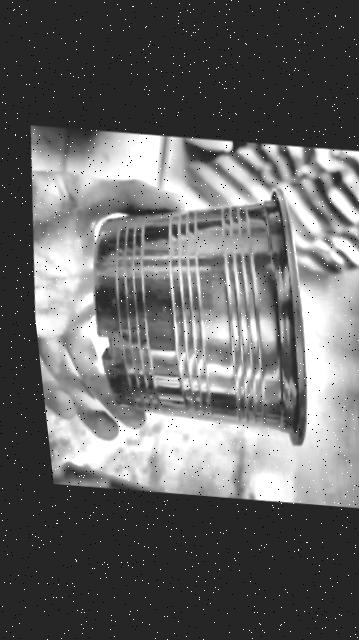pot: (93, 191, 305, 444)
